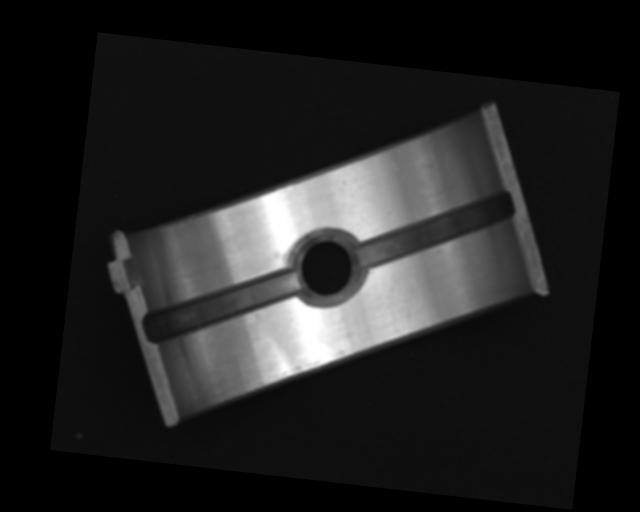gap: (356, 175, 515, 286), (143, 254, 301, 359)
hole: (290, 224, 364, 312)
